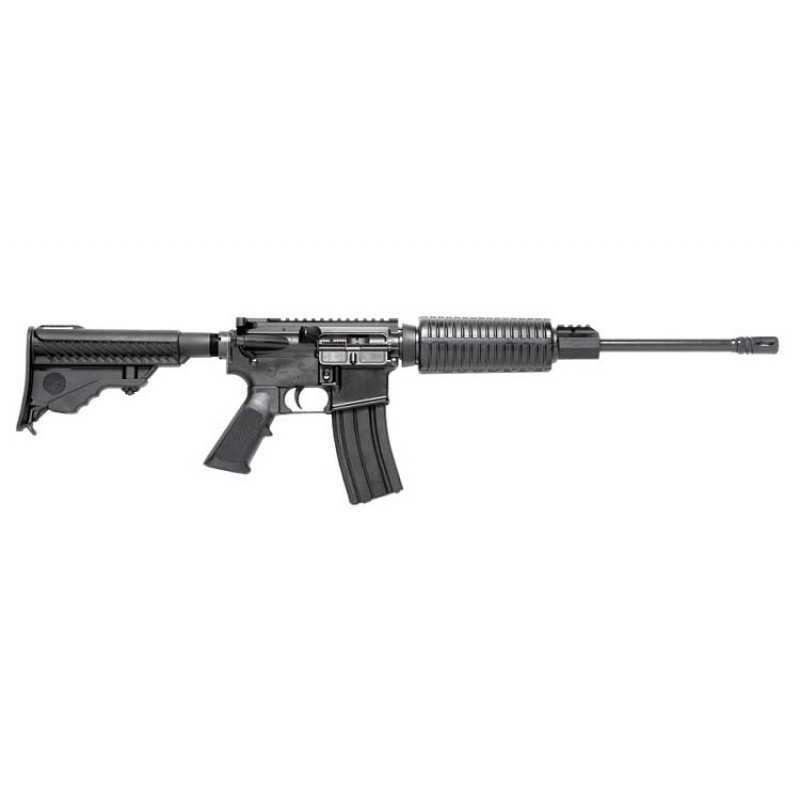Arma Real: (18, 316, 784, 512)
